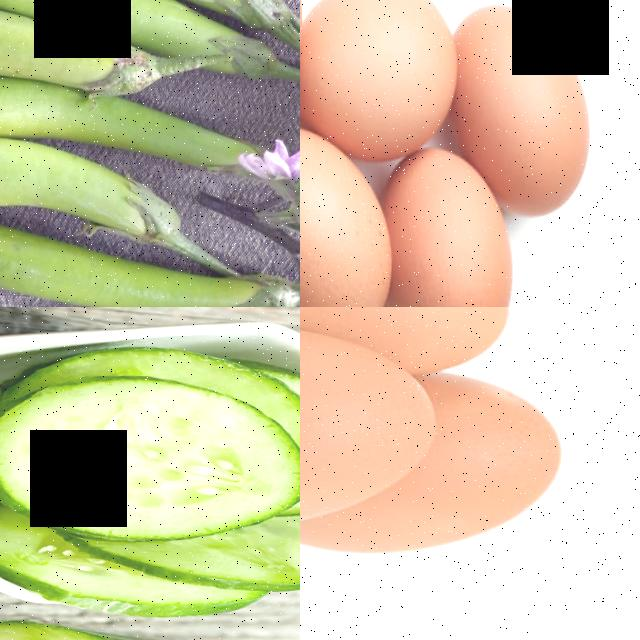cucumber: (0, 368, 300, 544)
egg_: (300, 313, 440, 535), (461, 0, 593, 184), (300, 0, 458, 136), (392, 153, 516, 307), (300, 134, 389, 307)
